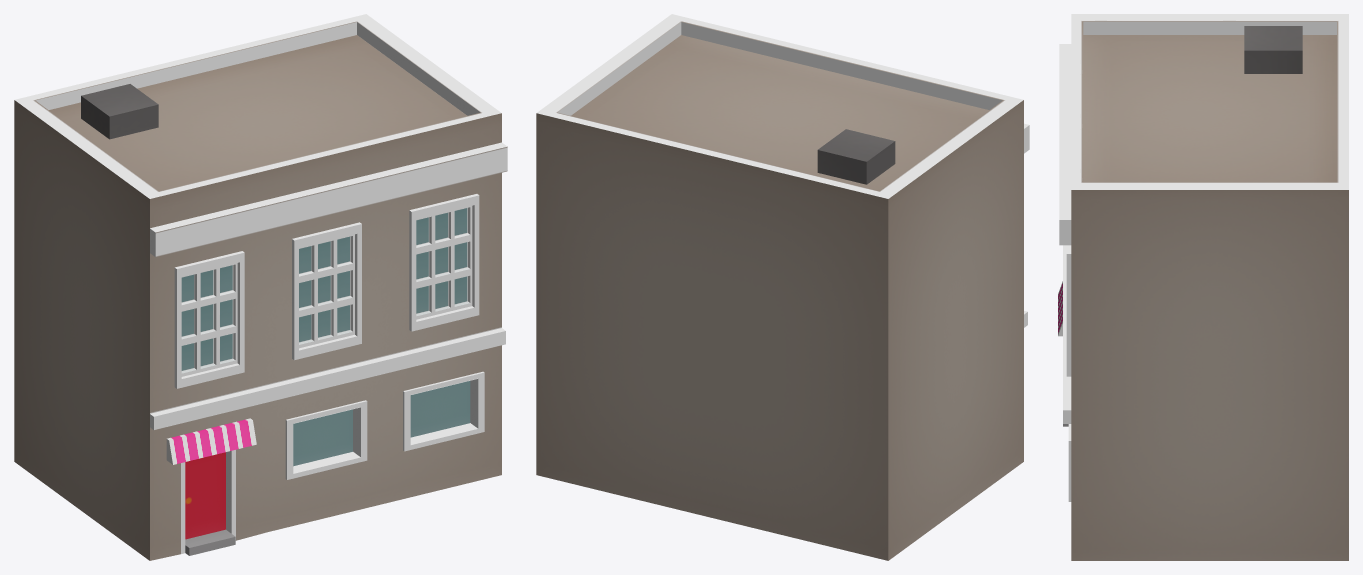
The model's file is House_02_UV_Color.fbx.
The picture shows the model from 3 angles, left to right: view 1: azimuth 30°, elevation 25°; view 2: azimuth 150°, elevation 25°; view 3: azimuth 270°, elevation 25°; orthographic projection. The views are drawn at different scales.
Parts seen in each view (by area): view 1: House_02_UV_Color; view 2: House_02_UV_Color; view 3: House_02_UV_Color.
Boxes of the visible parts, x1=… form: House_02_UV_Color: x1=14, y1=14, x2=507, y2=560; House_02_UV_Color: x1=536, y1=14, x2=1029, y2=560; House_02_UV_Color: x1=1058, y1=14, x2=1348, y2=560.
Size of the model in its own units: 1655 by 1674 by 1156.
